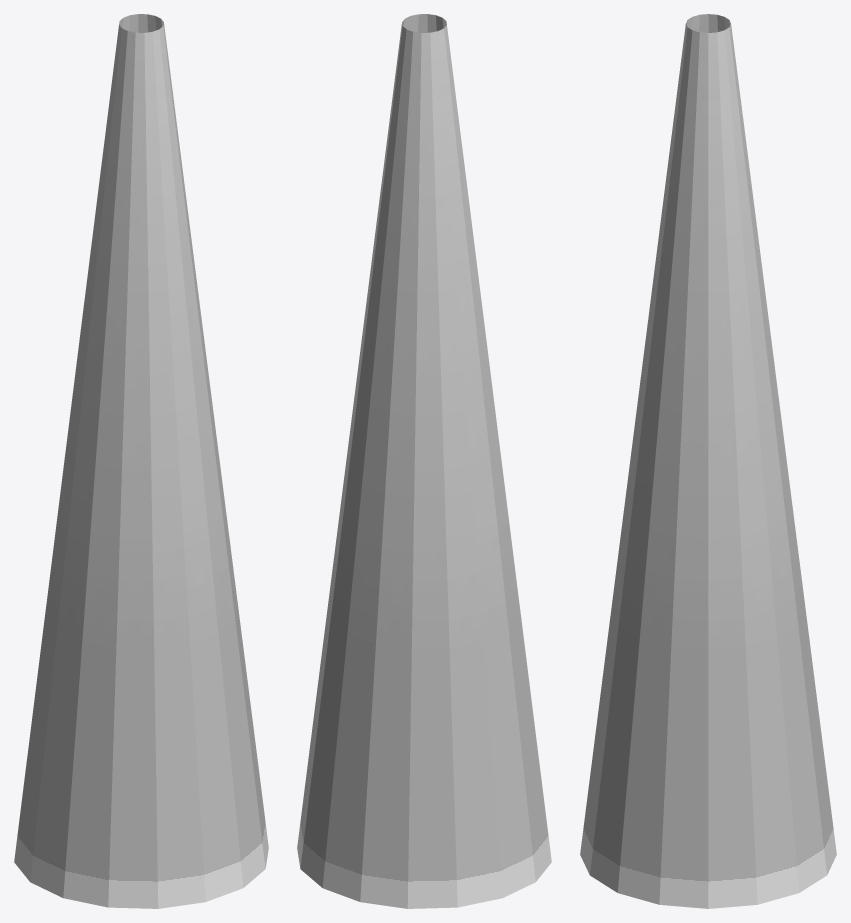
File: LightBeam.fbx
3 renders of one model, left to right at view 1: azimuth 30°, elevation 25°; view 2: azimuth 150°, elevation 25°; view 3: azimuth 270°, elevation 25°, orthographic.
Visible parts, largest first — view 1: Cylinder; view 2: Cylinder; view 3: Cylinder.
Part boxes in pixels (left/top/right/bottom): Cylinder: left=14, top=14, right=268, bottom=908; Cylinder: left=297, top=14, right=551, bottom=908; Cylinder: left=580, top=14, right=836, bottom=908.
Bounding box in the file's own units: 5.6 × 20 × 5.6.
